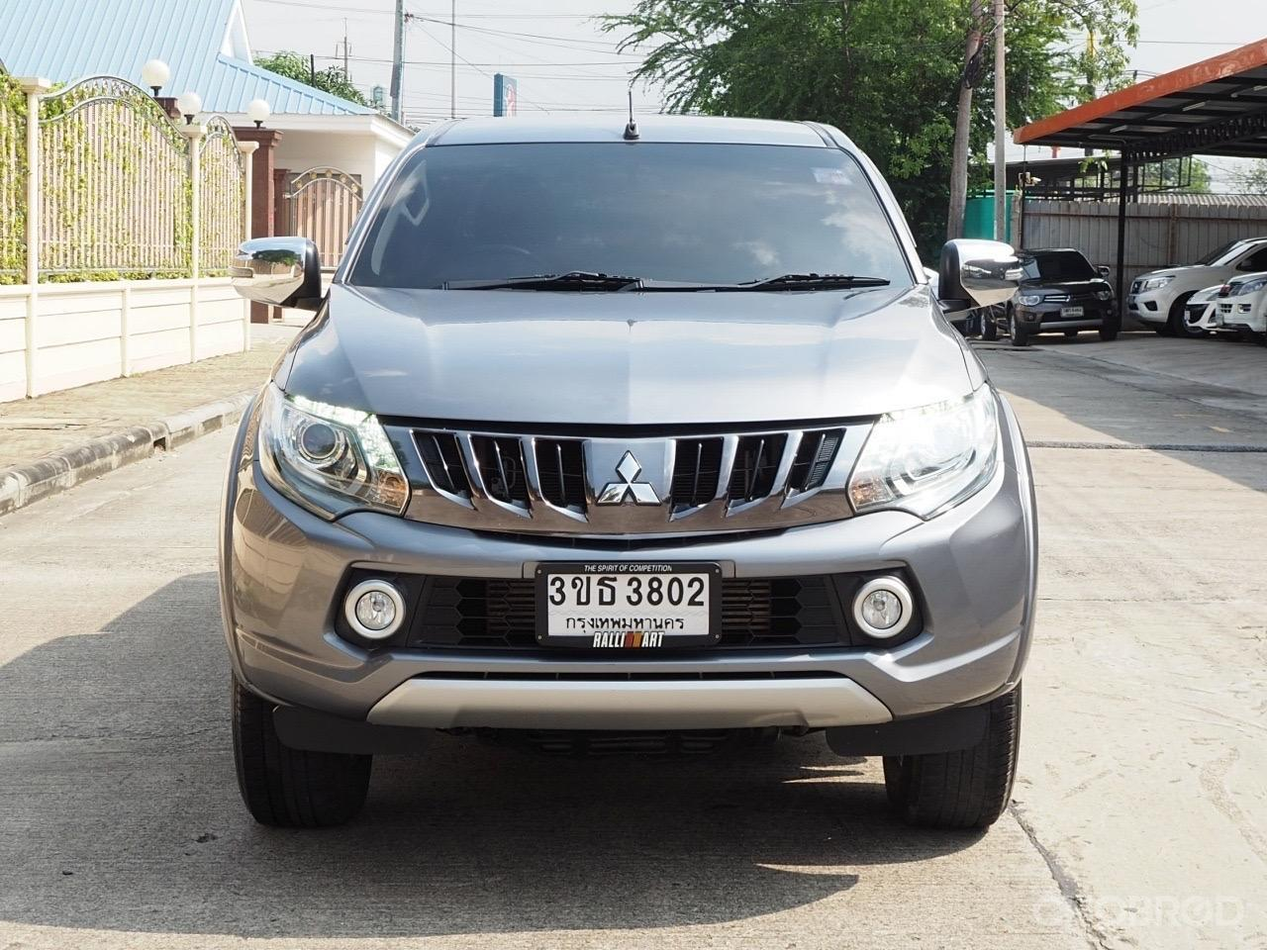license-plate: (541, 557, 718, 649)
